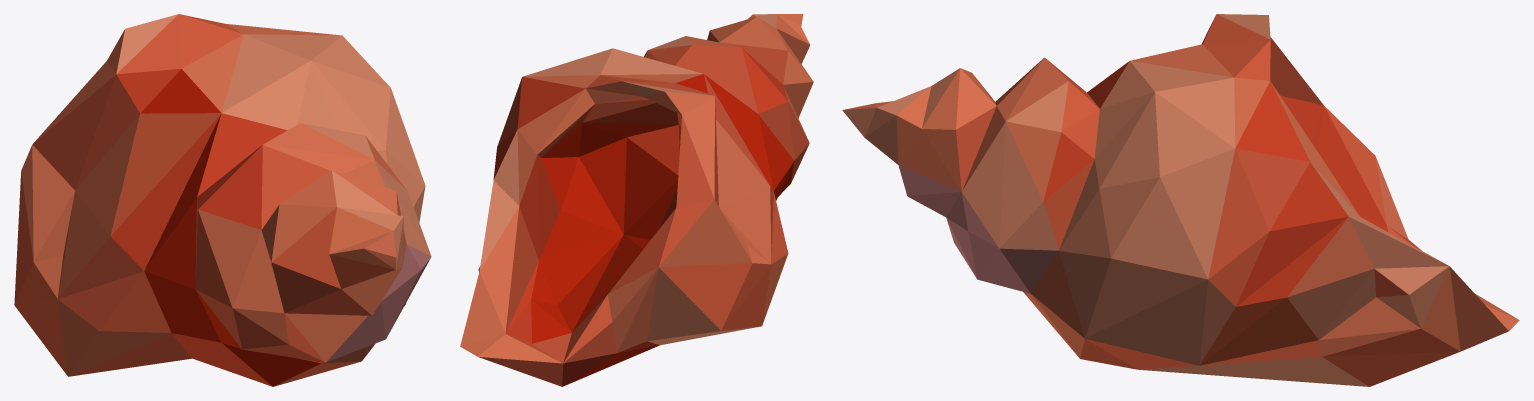
Rendered from shell-conch.glb.
The picture shows the model from 3 angles, left to right: view 1: azimuth 30°, elevation 25°; view 2: azimuth 150°, elevation 25°; view 3: azimuth 270°, elevation 25°; orthographic projection. The views are drawn at different scales.
Visible parts, largest first — view 1: shell-conch; view 2: shell-conch; view 3: shell-conch.
Part boxes in pixels (x1,y1,x2,y2): shell-conch: (14,14,431,386); shell-conch: (460,14,813,386); shell-conch: (842,14,1519,386).
Bounding box in the file's own units: 0.1249 × 0.1213 × 0.2226.
